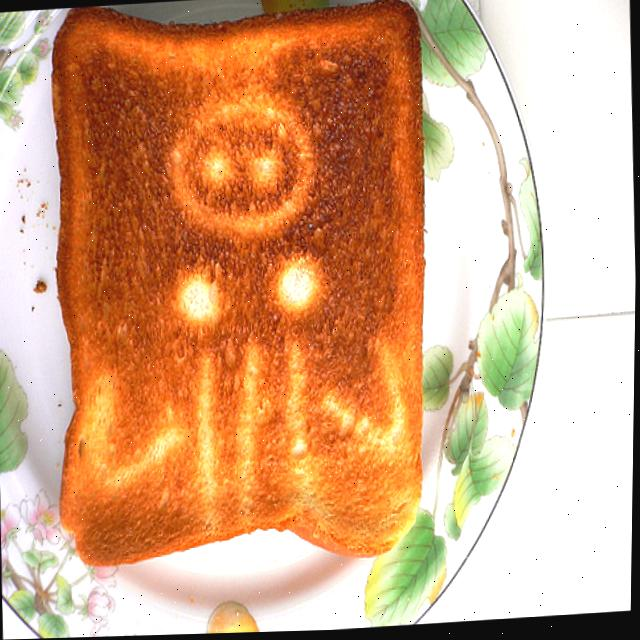面包点心: (45, 0, 457, 574)
